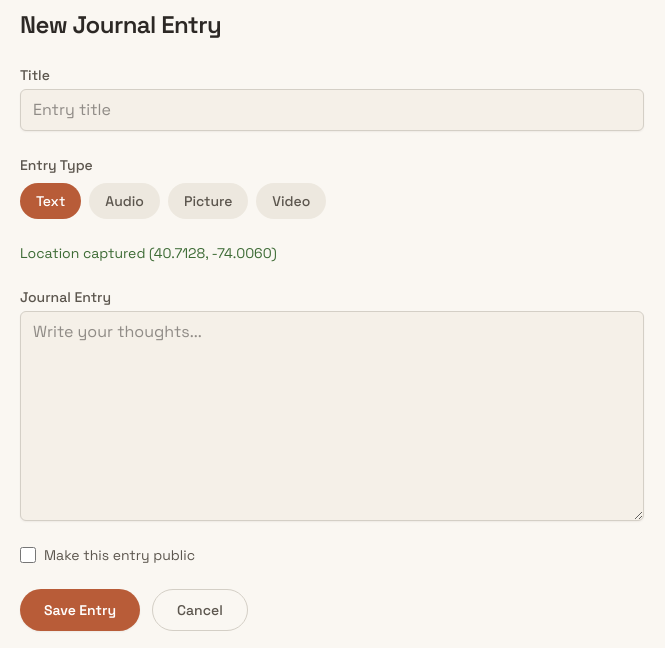
Scenario: NewEntryPage › shows error when no audio recorded
Step 1. Type "My Audio" into the field labelled "Title" → coordinates (332, 110), box [20, 89, 644, 131]
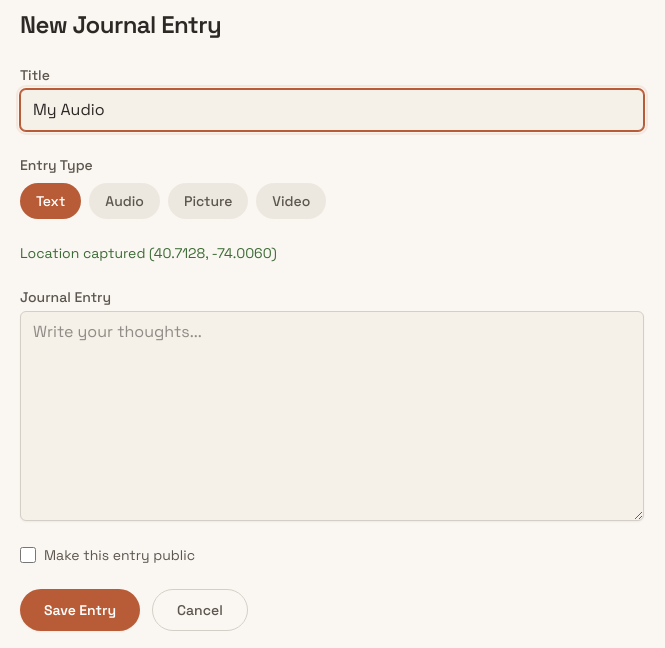
Step 2. Click the button "Audio" → coordinates (125, 201), box [89, 183, 160, 219]
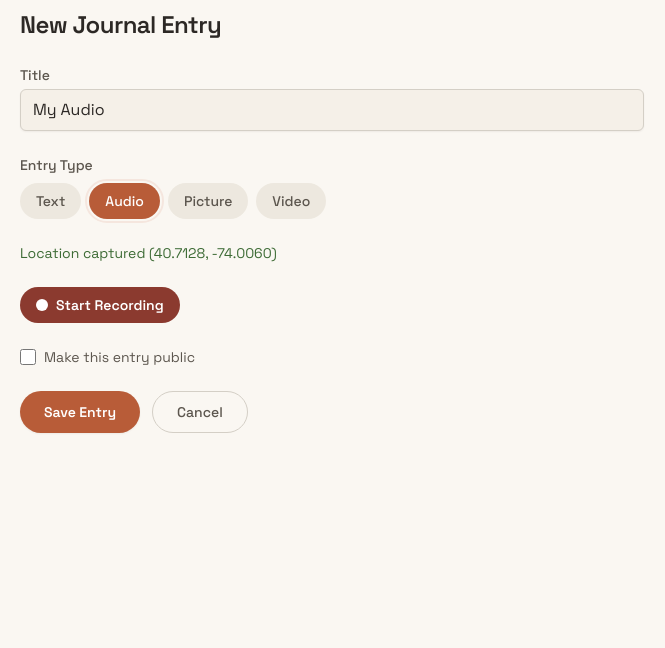
Step 3. Click the button "Save Entry" → coordinates (80, 412), box [20, 391, 140, 433]
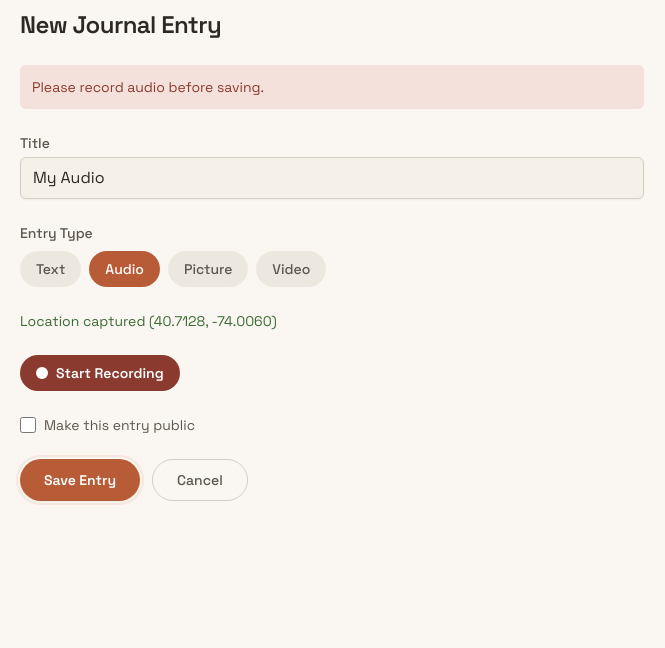
Expected: the text "Please record audio before saving." is shown, [20, 65, 644, 109]
